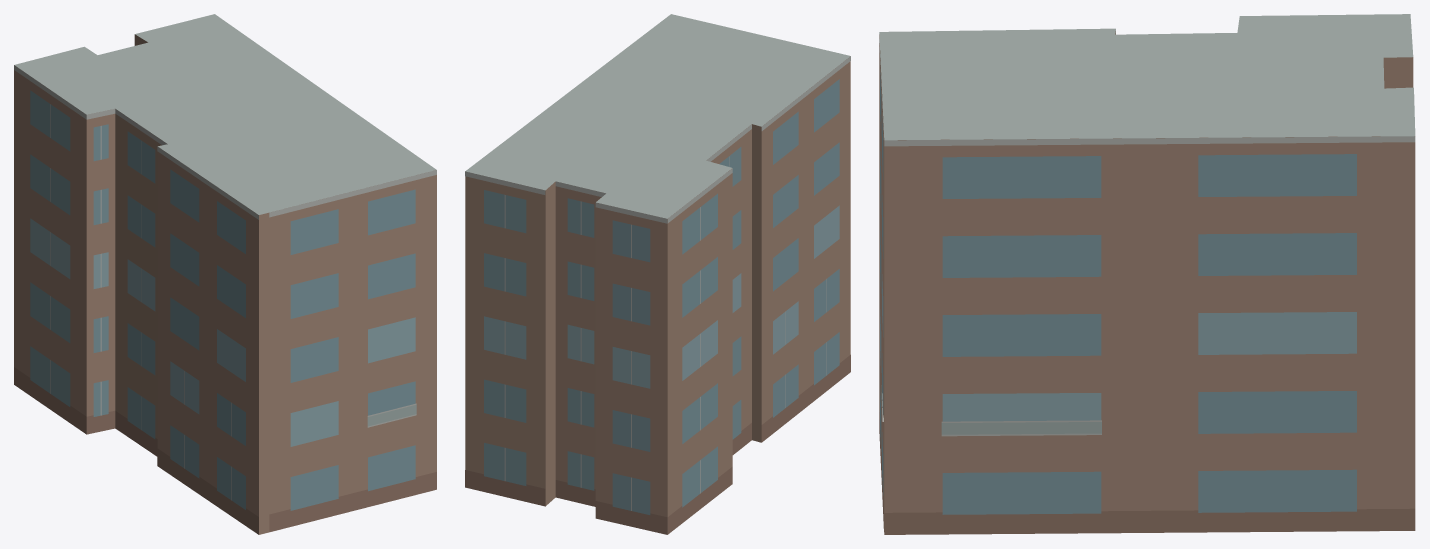
The model's file is survey-upis-32822876.glb.
The picture shows the model from 3 angles, left to right: view 1: azimuth 30°, elevation 25°; view 2: azimuth 150°, elevation 25°; view 3: azimuth 270°, elevation 25°; orthographic projection. The views are drawn at different scales.
Visible parts, largest first — view 1: survey-upis-32822876.tmp; view 2: survey-upis-32822876.tmp; view 3: survey-upis-32822876.tmp.
Boxes of the visible parts, bbox=[...] form: survey-upis-32822876.tmp: bbox=[14, 14, 436, 534]; survey-upis-32822876.tmp: bbox=[465, 14, 850, 534]; survey-upis-32822876.tmp: bbox=[879, 14, 1415, 534].
Bounding box in the file's own units: 10.81 × 15.75 × 19.39.
